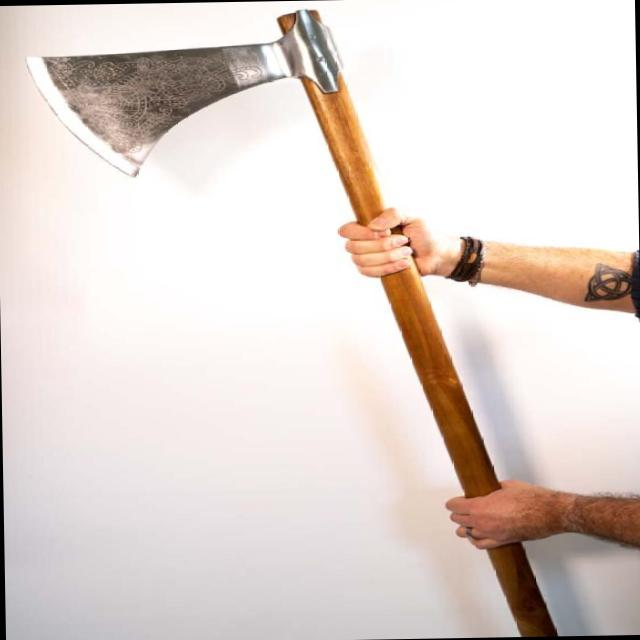Gun: (69, 8, 635, 640)
